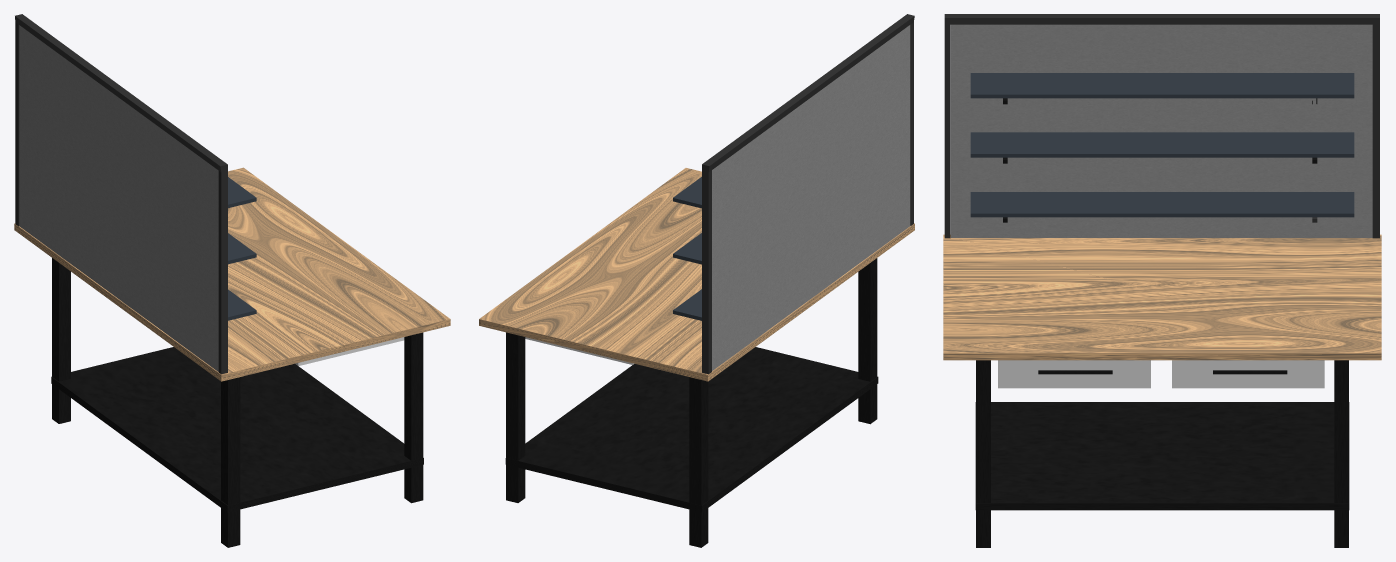
Rendered from Workbench.fbx.
3 renders of one model, left to right at view 1: azimuth 30°, elevation 25°; view 2: azimuth 150°, elevation 25°; view 3: azimuth 270°, elevation 25°, orthographic. The views are drawn at different scales.
Parts seen in each view (by area): view 1: Backboard, MetalBase, Tabletop, Backframe, MetalLeg.003, MetalLeg, MetalLeg.002, Shelf, Shelf.002; view 2: Backboard, MetalBase, Tabletop, Backframe, MetalLeg.002, MetalLeg.001, MetalLeg.003, Shelf, Shelf.002, Shelf.001; view 3: Backboard, Tabletop, MetalBase, Shelf.001, Shelf.002, Shelf, Backframe, Drawer.001, Drawer, MetalLeg, MetalLeg.001.
Boxes of the visible parts, x1,y1,x2,y2 form: Backboard: (19,25,218,371); MetalBase: (51,347,423,512); Tabletop: (14,167,450,381); Backframe: (15,14,227,374); MetalLeg.003: (221,377,240,547); MetalLeg: (404,332,423,503); MetalLeg.002: (52,258,70,423); Shelf: (228,177,256,208); Shelf.002: (228,289,256,320); Backboard: (712,25,910,370); MetalBase: (505,347,878,512); Tabletop: (479,168,914,381); Backframe: (702,14,914,374); MetalLeg.002: (689,377,708,547); MetalLeg.001: (506,332,525,502); MetalLeg.003: (858,258,877,424); Shelf: (673,177,701,208); Shelf.002: (673,289,701,320); Shelf.001: (673,233,701,264); Backboard: (951,24,1372,237); Tabletop: (943,234,1381,360); MetalBase: (975,402,1349,510); Shelf.001: (970,132,1354,157); Shelf.002: (970,192,1354,217); Shelf: (970,73,1354,98); Backframe: (944,14,1379,238); Drawer.001: (998,360,1150,388); Drawer: (1172,360,1324,388); MetalLeg: (976,360,990,547); MetalLeg.001: (1334,360,1348,547).
Size of the model in its own units: 193 by 319 by 300.
Materials: 6 (3 with a texture image).
